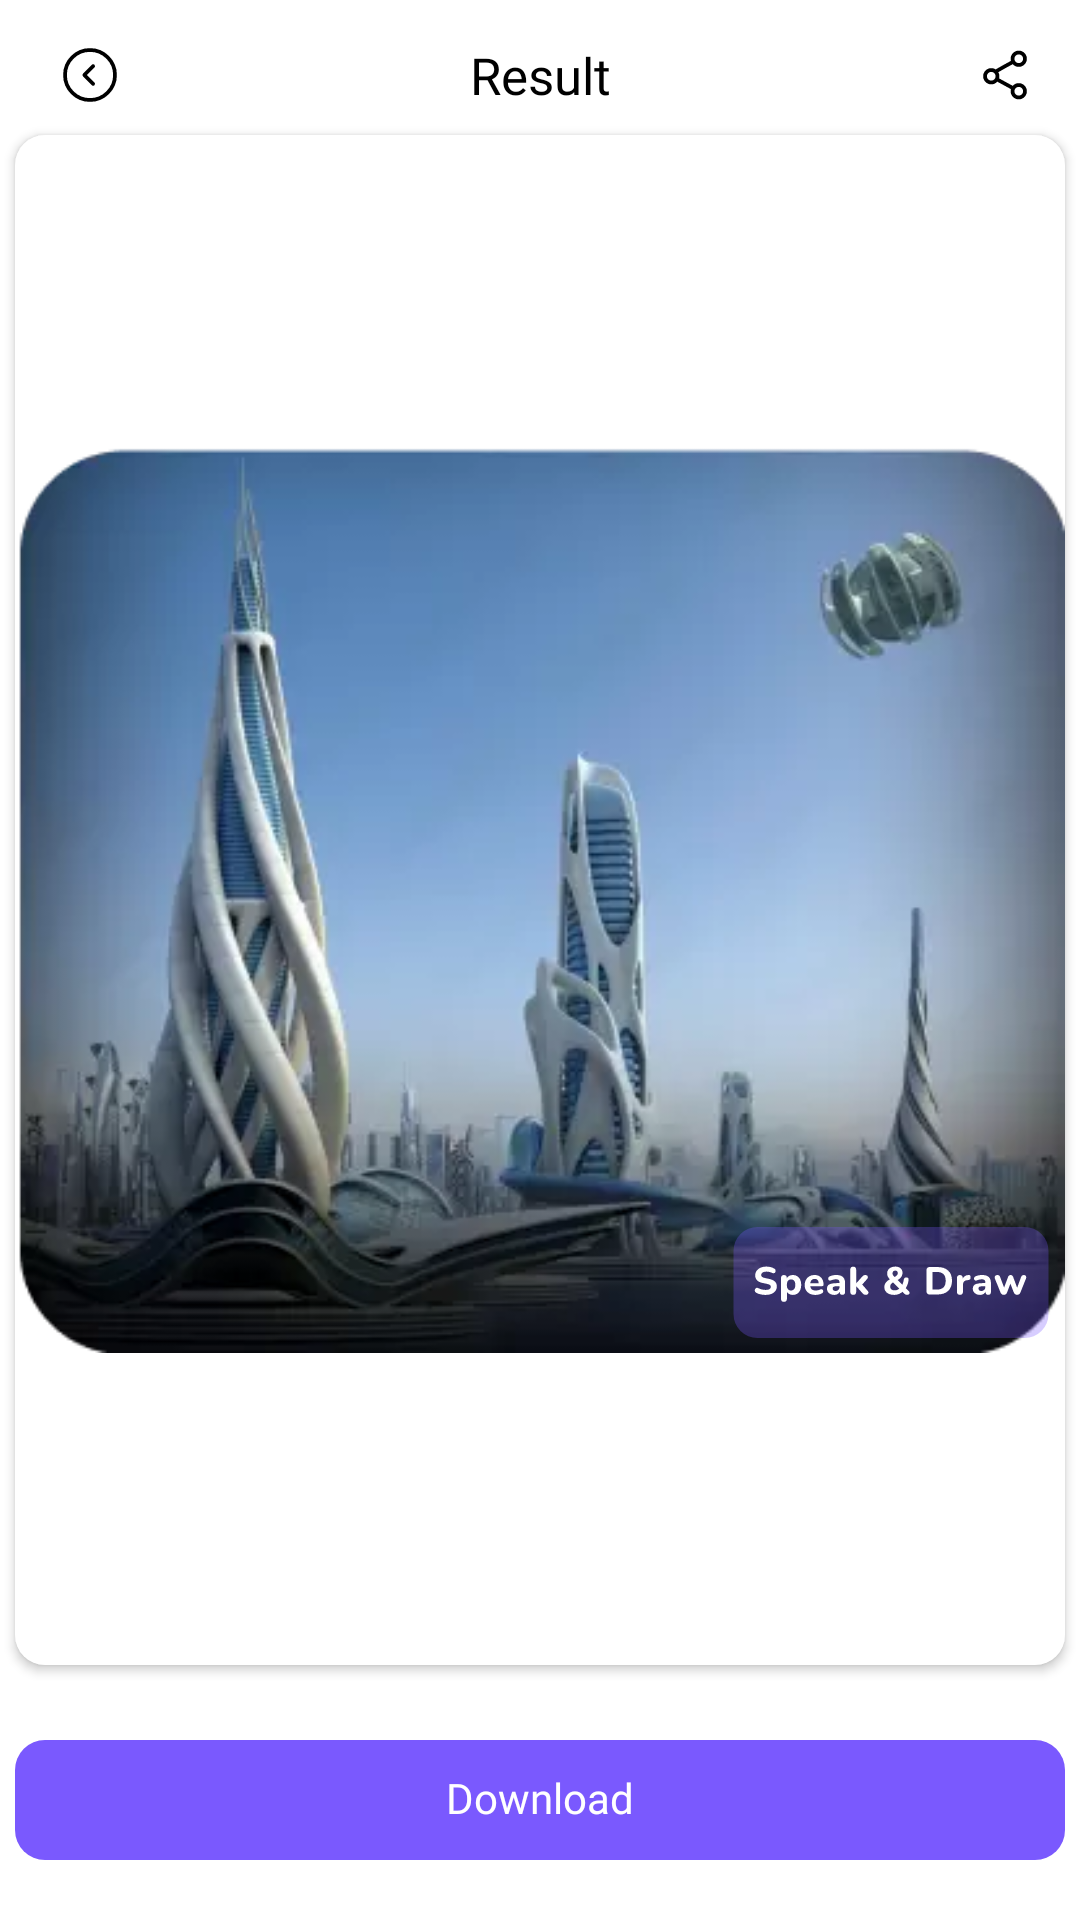

Where icons sit on this 1080px×1920px app screen, as (x1, y1, x2, y2):
back arrow: (63, 48, 117, 102)
share: (983, 50, 1027, 100)
